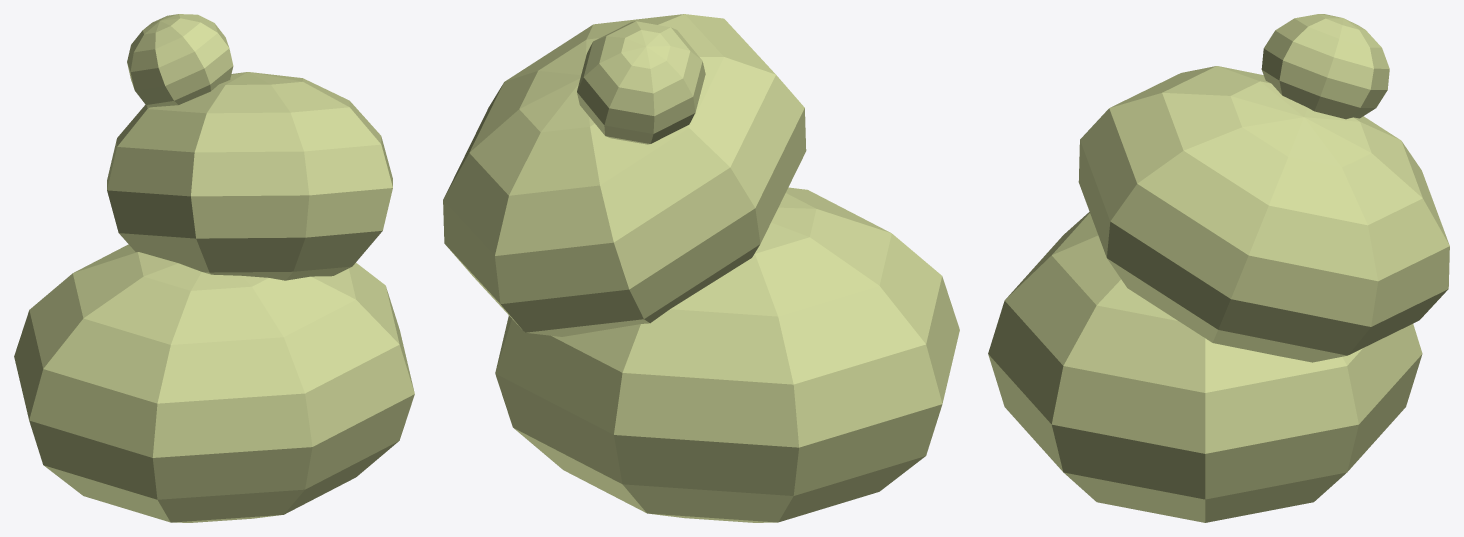
File: Bush3.fbx
3 views of the same model, side by side, from view 1: azimuth 30°, elevation 25°; view 2: azimuth 150°, elevation 25°; view 3: azimuth 270°, elevation 25° (orthographic). The views are drawn at different scales.
Visible parts, largest first — view 1: Bush3Base, Bush3Mid, Bush3Top; view 2: Bush3Base, Bush3Mid, Bush3Top; view 3: Bush3Mid, Bush3Base, Bush3Top.
Part boxes in pixels (bbox=[...]): Bush3Base: bbox=[14, 244, 414, 522]; Bush3Mid: bbox=[107, 72, 392, 280]; Bush3Top: bbox=[127, 14, 233, 107]; Bush3Base: bbox=[495, 187, 959, 522]; Bush3Mid: bbox=[443, 14, 806, 336]; Bush3Top: bbox=[577, 21, 705, 144]; Bush3Mid: bbox=[1078, 66, 1449, 362]; Bush3Base: bbox=[988, 212, 1422, 522]; Bush3Top: bbox=[1261, 14, 1389, 119].
Bounding box in the file's own units: 1.55 × 1.73 × 1.49.
